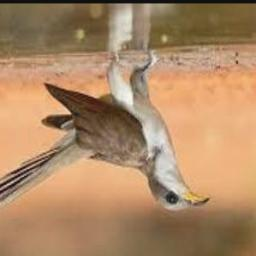Cuckoo: (0, 59, 210, 222)
